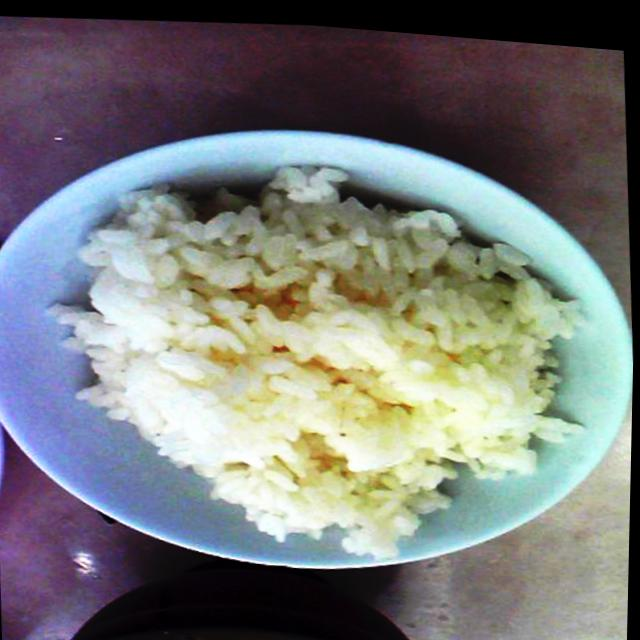rice: (36, 129, 604, 595)
